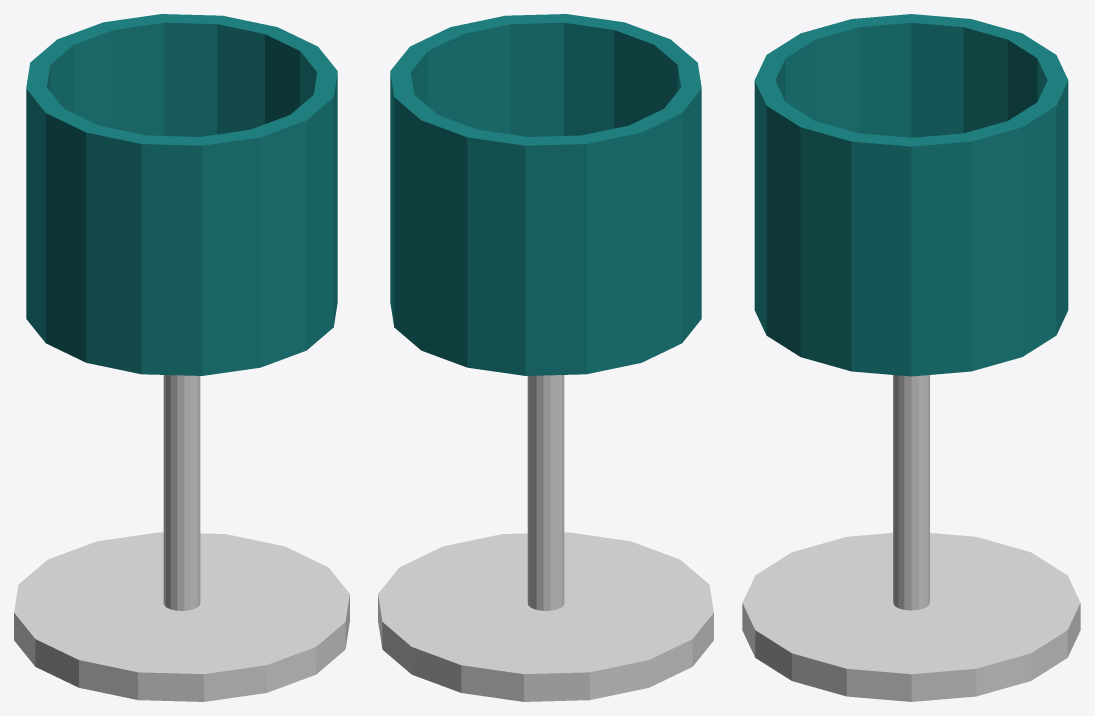
File: Prop_HomeLamp_02.fbx
3 views of the same model, side by side, from view 1: azimuth 30°, elevation 25°; view 2: azimuth 150°, elevation 25°; view 3: azimuth 270°, elevation 25° (orthographic).
Parts seen in each view (by area): view 1: Prop_HomeLamp_02; view 2: Prop_HomeLamp_02; view 3: Prop_HomeLamp_02.
Boxes of the visible parts, x1=… form: Prop_HomeLamp_02: x1=14, y1=14, x2=349, y2=701; Prop_HomeLamp_02: x1=378, y1=14, x2=713, y2=701; Prop_HomeLamp_02: x1=742, y1=14, x2=1080, y2=701.
Bounding box in the file's own units: 34.7 × 62.3 × 34.7.
